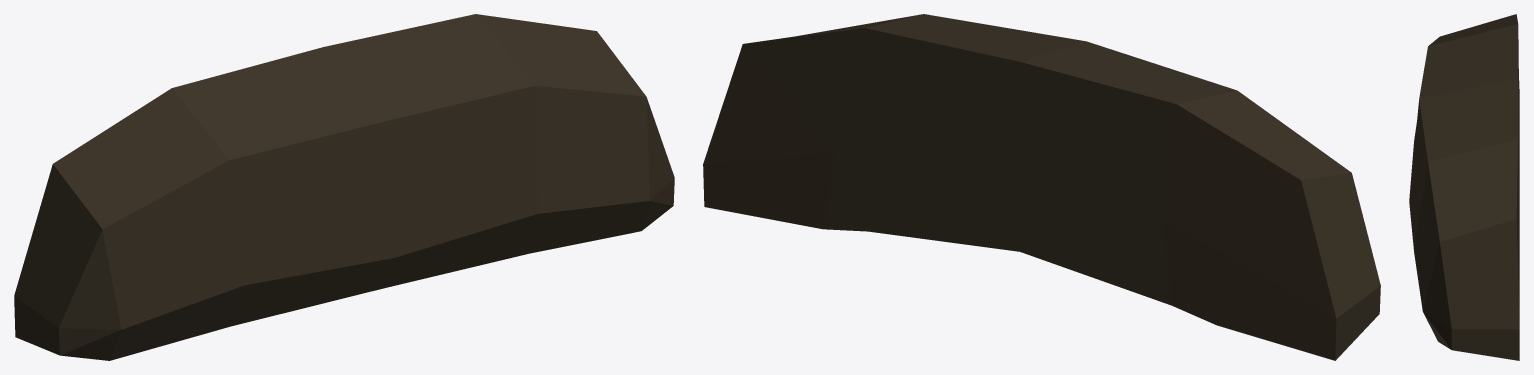
The model's file is SM_Chr_Attach_Mustache_01.fbx.
The picture shows the model from 3 angles, left to right: view 1: azimuth 30°, elevation 25°; view 2: azimuth 150°, elevation 25°; view 3: azimuth 270°, elevation 25°; orthographic projection. The views are drawn at different scales.
Parts seen in each view (by area): view 1: SM_Chr_Attach_Mustache_01; view 2: SM_Chr_Attach_Mustache_01; view 3: SM_Chr_Attach_Mustache_01.
Part boxes in pixels (x1,y1,x2,y2): SM_Chr_Attach_Mustache_01: [14, 14, 674, 360]; SM_Chr_Attach_Mustache_01: [703, 14, 1380, 360]; SM_Chr_Attach_Mustache_01: [1409, 14, 1519, 360].
Size of the model in its own units: 14.23 by 4.75 by 2.86.
